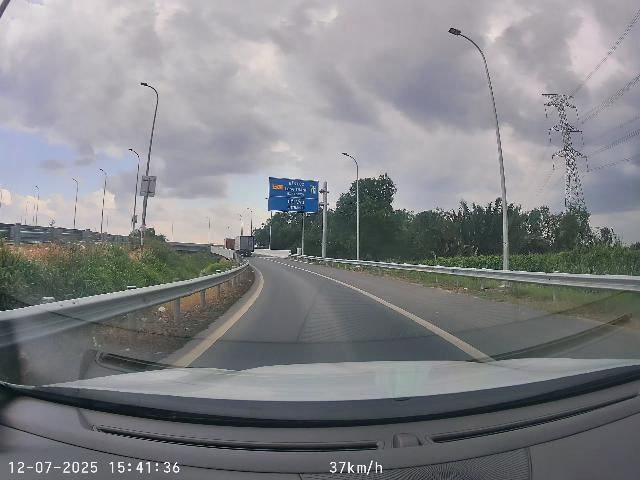437-bat-dau-duong-cao-toc: (309, 185, 316, 195)
